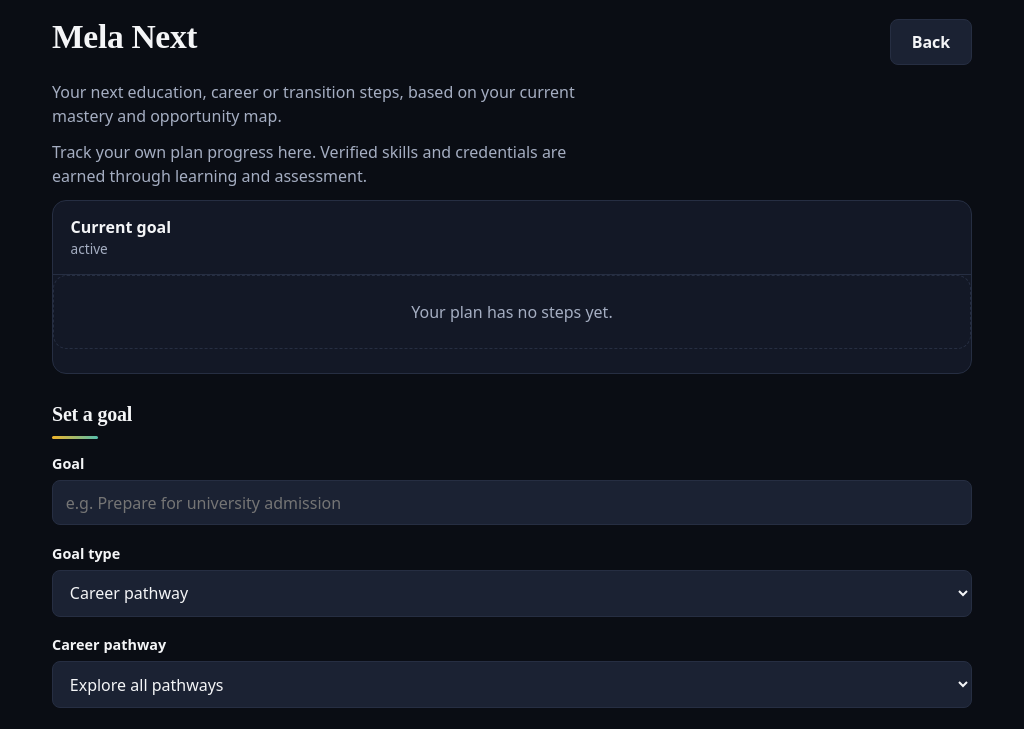
requires active goal replacement confirmation and submits the selected career path
Type "Become an engineer" into the field labelled "Goal". click: (512, 503)
box: top-left (52, 480), bottom-right (972, 525)
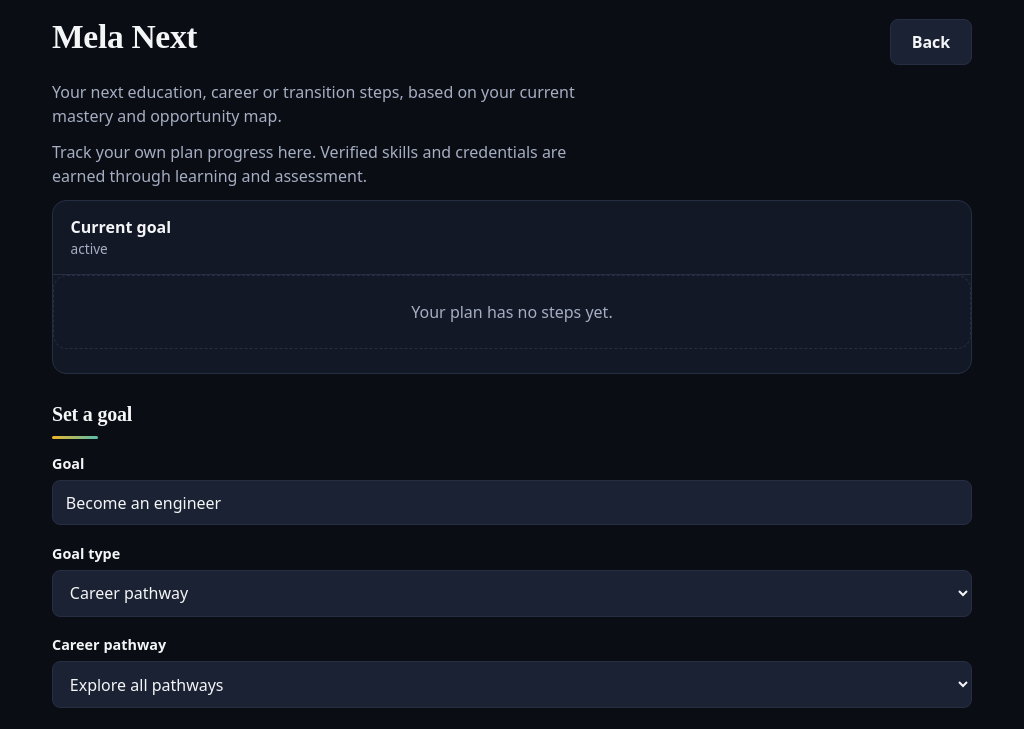
Select "Career pathway" in the dropdown labelled "Goal type". click: (512, 593)
box: top-left (52, 570), bottom-right (972, 617)
Select "Engineering" in the dropdown labelled "Career pathway". click: (512, 685)
box: top-left (52, 662), bottom-right (972, 708)
(page scrolled)
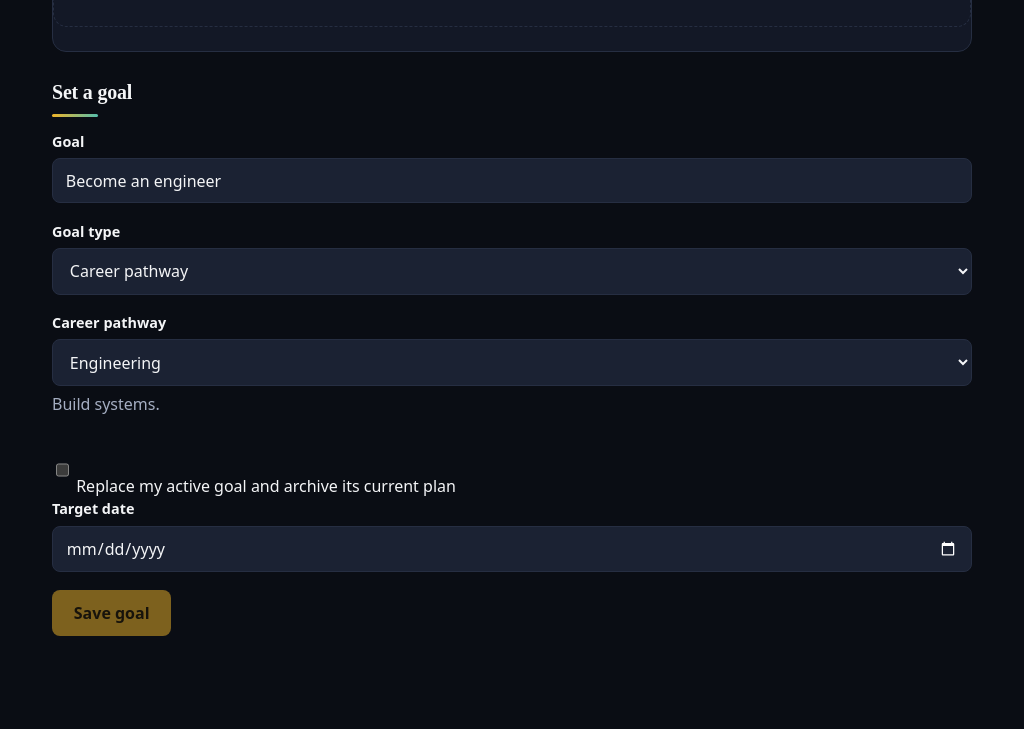
Expected: the button "Save goal" is disabled, top-left (52, 590), bottom-right (171, 636)
Click the checkbox. click: (62, 470)
box: top-left (56, 448), bottom-right (69, 492)
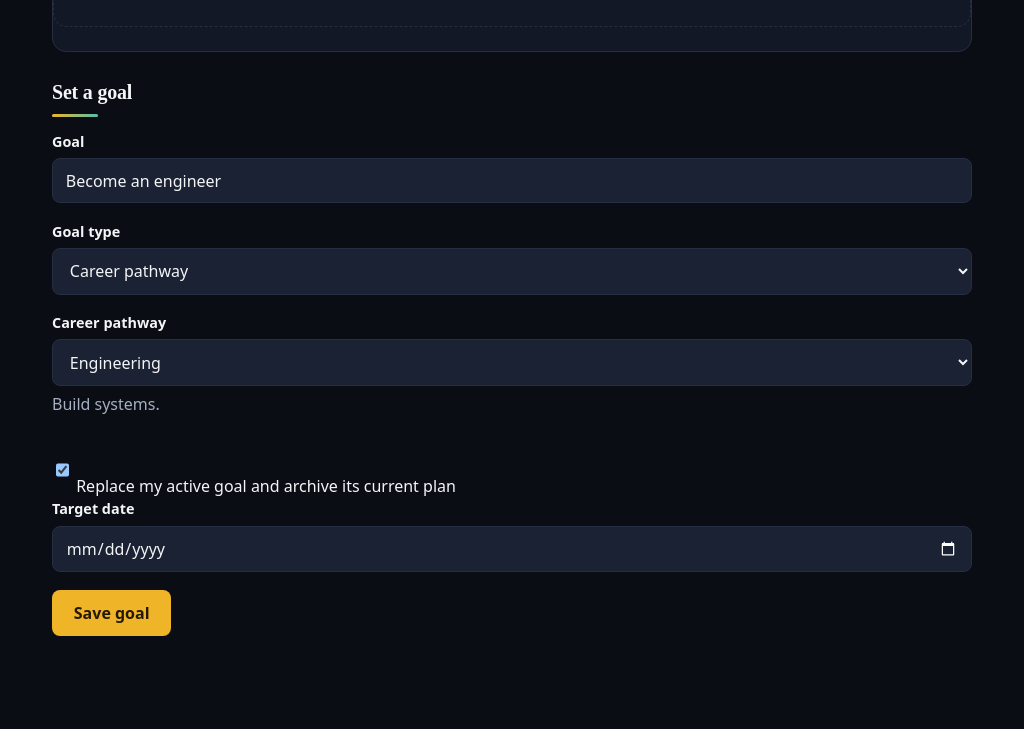
Click the button "Save goal". click: (112, 613)
box: top-left (52, 590), bottom-right (171, 636)
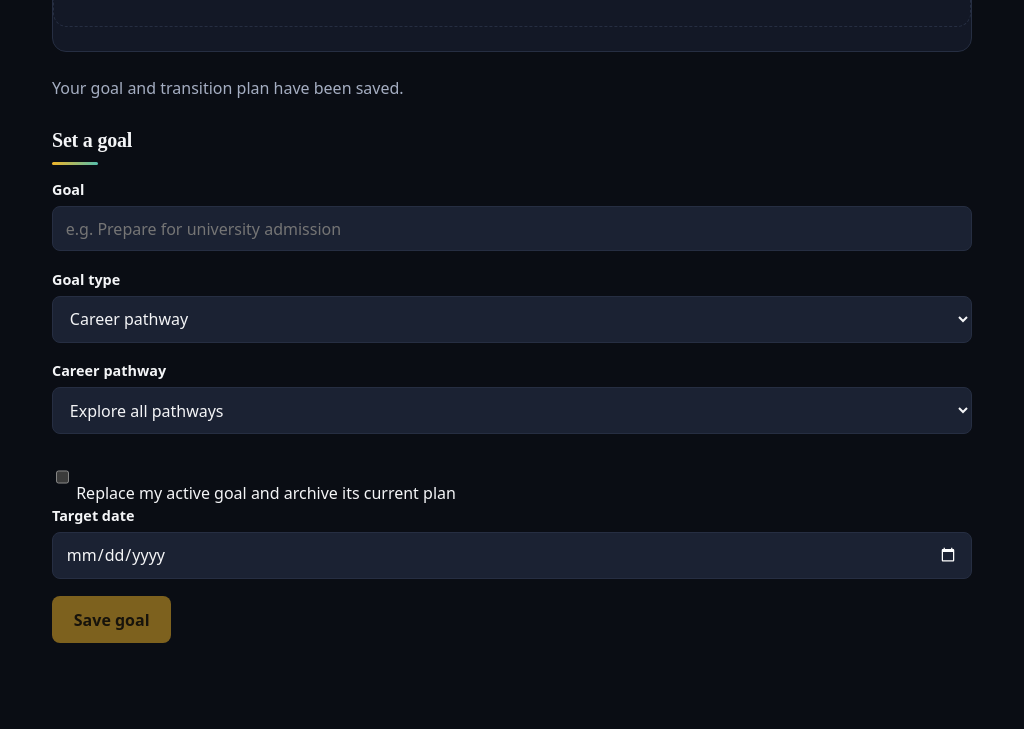
Expected: the text "Your goal and transition plan have been saved." is shown, top-left (52, 77), bottom-right (404, 99)
